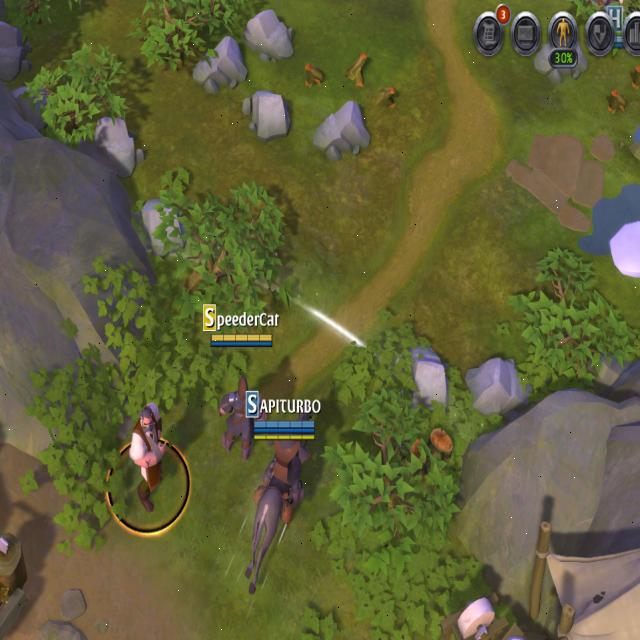stone: (464, 351, 533, 419), (89, 109, 147, 185), (188, 30, 250, 99), (398, 336, 451, 414), (312, 98, 372, 164), (240, 81, 292, 148), (241, 4, 296, 66), (138, 194, 185, 258)
